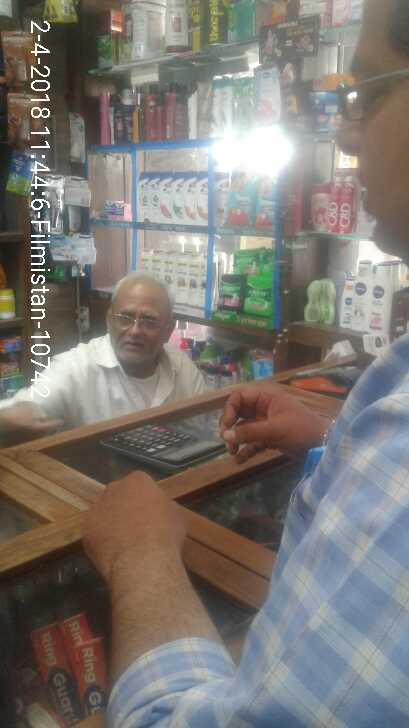vicks: (100, 197, 133, 218)
